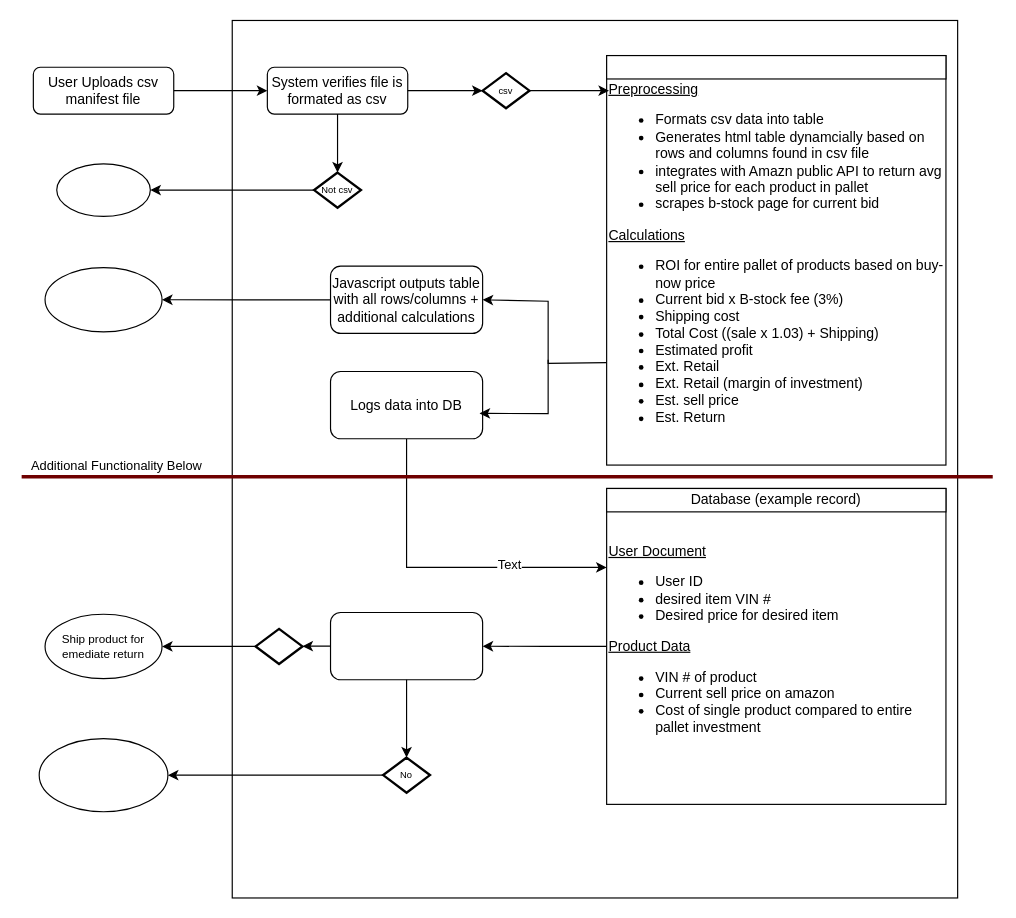
Image size: 1016x918. Some labels were removed from this diagram. Here are the shapes that lost their labels. From the top down, the centre of each, then its label:
At (775,66): "Main javascript".
At (103,189): "Incorrext data type notif".
At (103,299): "All calculations to be pasted into excel file".
At (278,646): "Yes".
At (406,645): "Do new products satisfy 35% margin of existing customer desire?".
At (103,774): "List product on store front for future customers".
